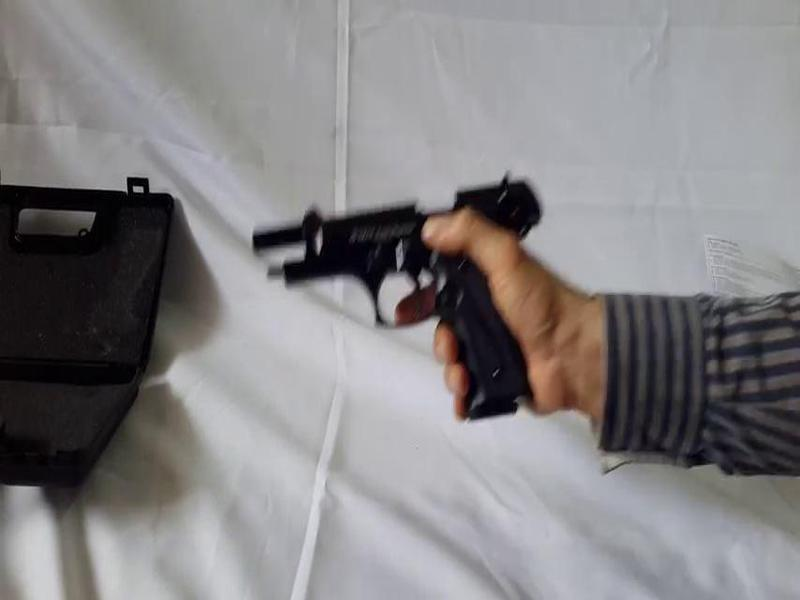Pistola: (229, 165, 547, 421)
